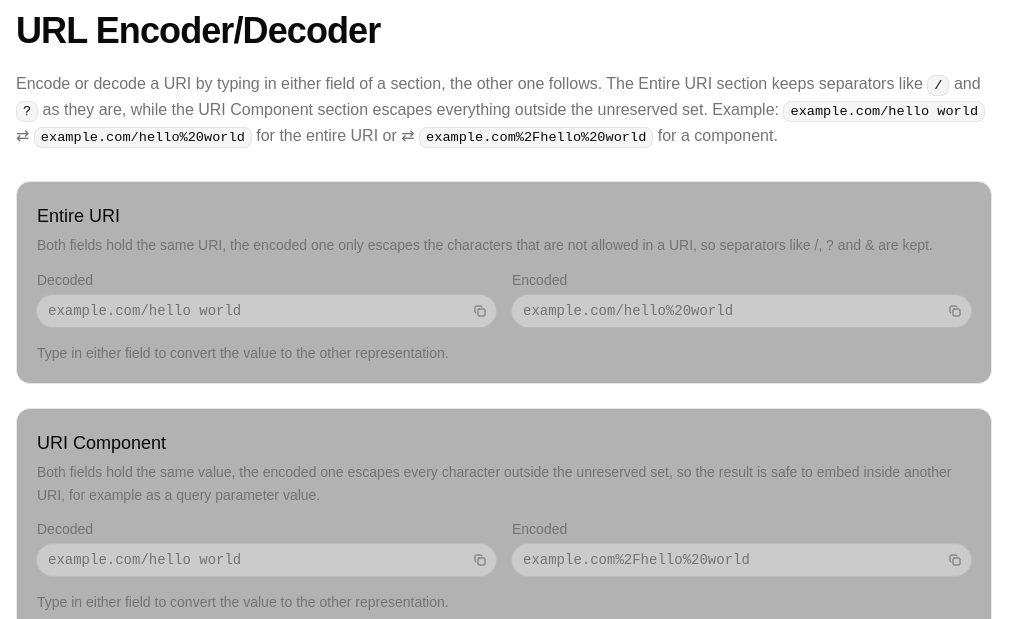
Scenario: URLEncoderDecoder › marks a malformed percent escape and recovers when it is fixed
Type "%ZZ" into the 1st field labelled "Encoded" at (728, 311), box [513, 295, 943, 327]
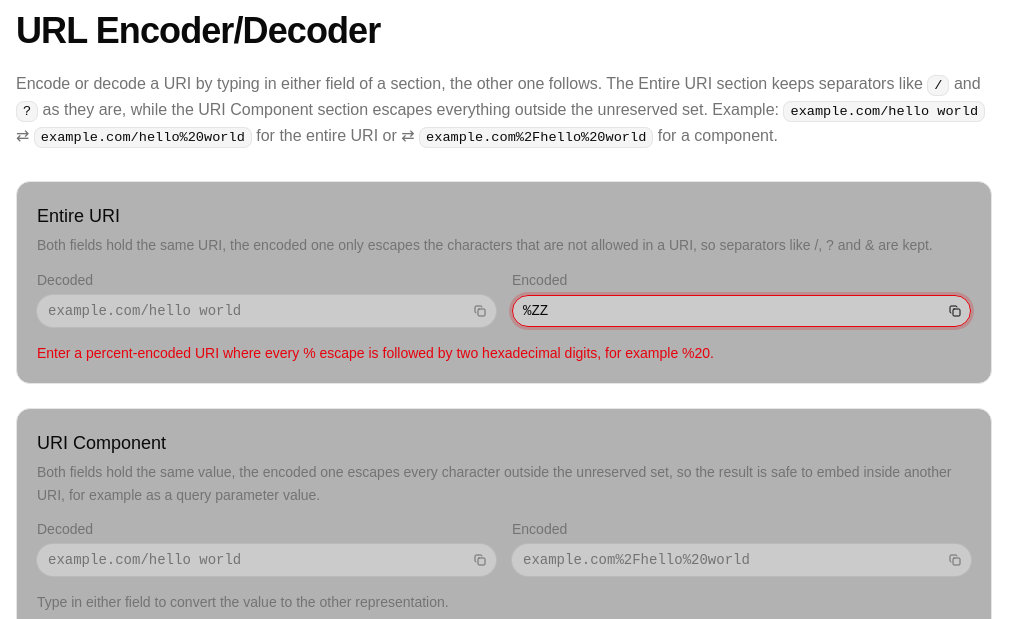
Expected: the 1st field labelled "Decoded" is empty, [38, 295, 468, 327]
Expected: the text "Enter a percent-encoded URI where every % escape is followed by two hexadecimal digits, for example %20." is shown, [37, 345, 714, 361]
Replace the text in the 1st field labelled "Encoded" with "%20" at (728, 311), box [513, 295, 943, 327]
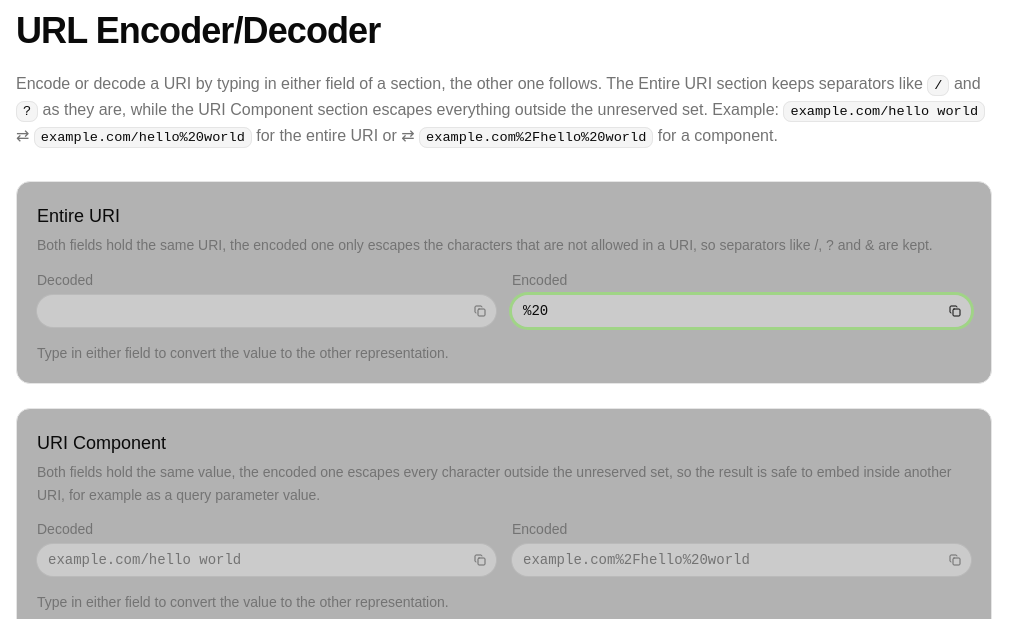
Expected: the 1st field labelled "Decoded" holds " ", [38, 295, 468, 327]
